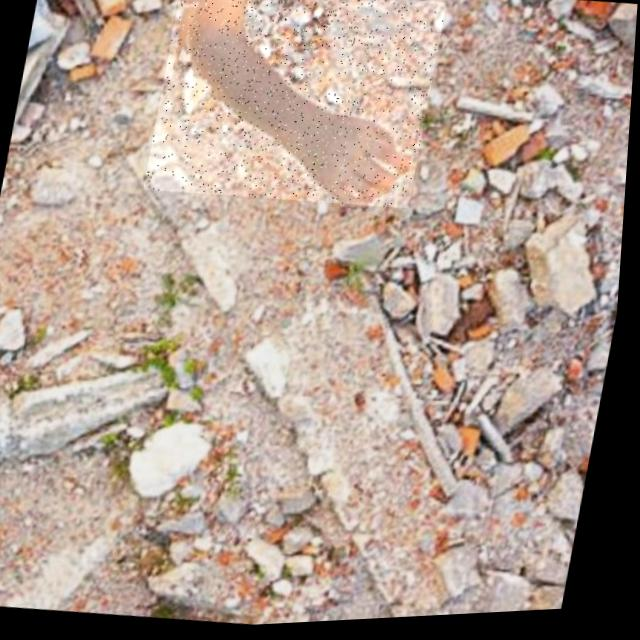Person in Rubble: (144, 0, 448, 223)
